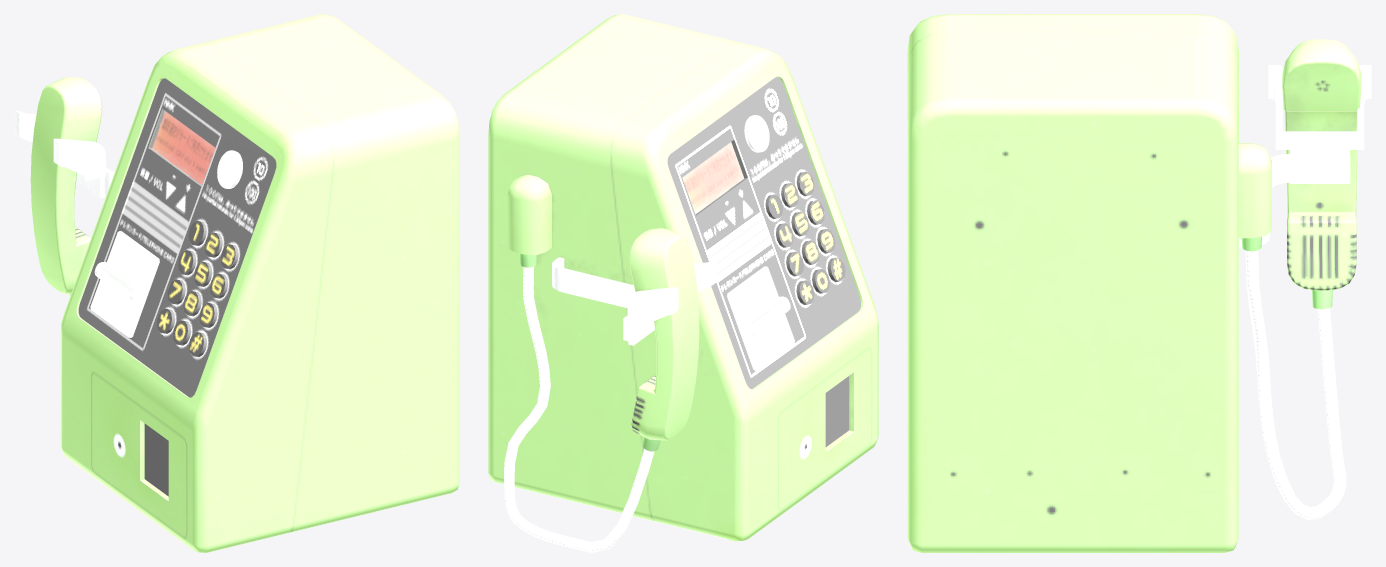
The model's file is SM_PayPhone_01.fbx.
3 renders of one model, left to right at view 1: azimuth 30°, elevation 25°; view 2: azimuth 150°, elevation 25°; view 3: azimuth 270°, elevation 25°, orthographic. The views are drawn at different scales.
Parts seen in each view (by area): view 1: SM_PayPhone_01_LOD0; view 2: SM_PayPhone_01_LOD0; view 3: SM_PayPhone_01_LOD0.
Part boxes in pixels (box(x1,y1,x2,y2)): SM_PayPhone_01_LOD0: box(14, 14, 459, 552); SM_PayPhone_01_LOD0: box(488, 14, 878, 552); SM_PayPhone_01_LOD0: box(907, 14, 1371, 552).
Bounding box in the file's own units: 25 × 32.43 × 35.11.
